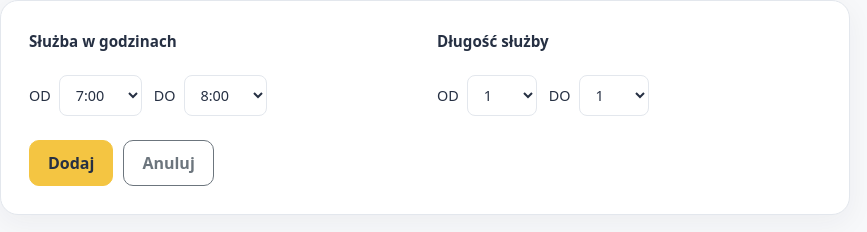
Test: CreateProposalForm › ogranicza godzinę DO do wartości późniejszych niż OD
Step 1. Select "14:00" in the dropdown named "Służba od" → (100, 96), box [59,75,142,116]
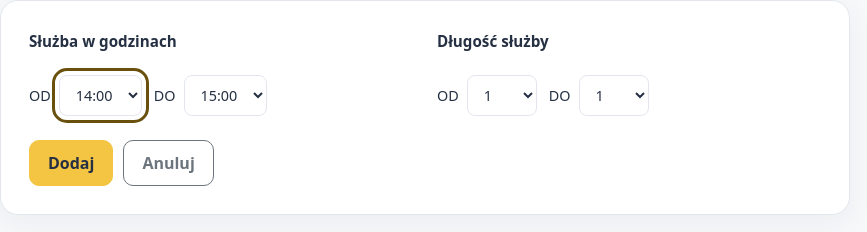
Expected: the dropdown named "Służba do" shows "15:00", [184,75,266,116]
